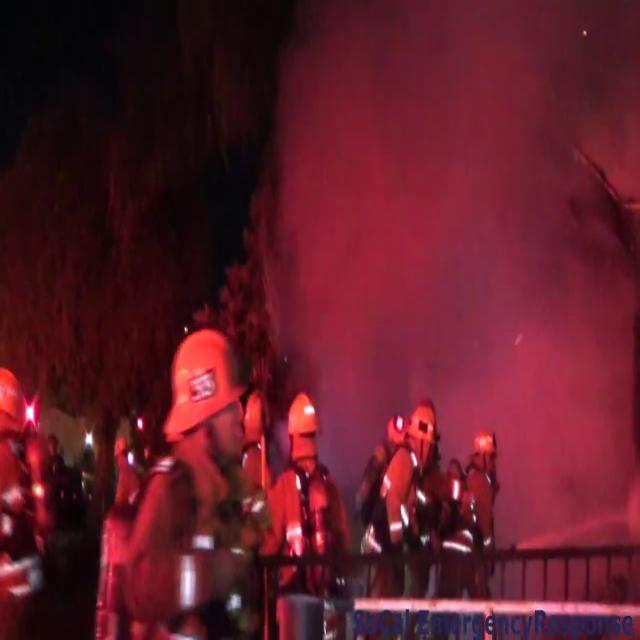Smoke: (241, 1, 639, 302)
